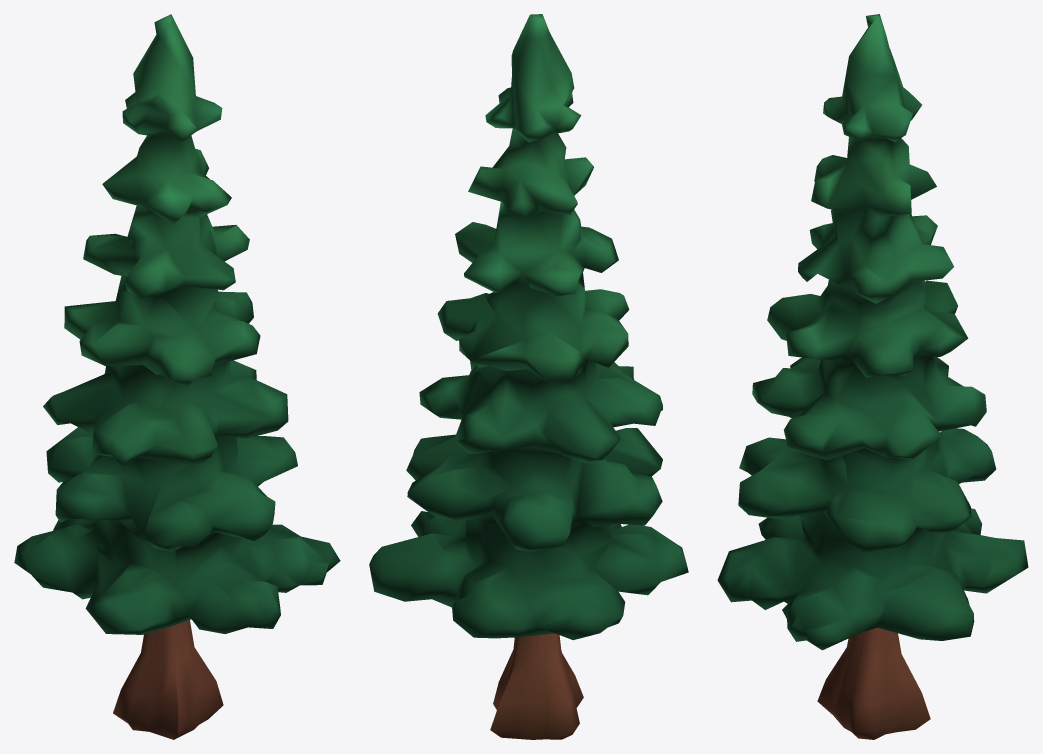
The model's file is tree-cedar.glb.
3 renders of one model, left to right at view 1: azimuth 30°, elevation 25°; view 2: azimuth 150°, elevation 25°; view 3: azimuth 270°, elevation 25°, orthographic.
Parts seen in each view (by area): view 1: Cedar Needles, Cedar Bark; view 2: Cedar Needles, Cedar Bark; view 3: Cedar Needles, Cedar Bark.
Part boxes in pixels (x1,y1,x2,y2): Cedar Needles: [14, 14, 340, 634]; Cedar Bark: [113, 620, 223, 739]; Cedar Needles: [369, 14, 688, 640]; Cedar Bark: [490, 633, 583, 739]; Cedar Needles: [717, 14, 1028, 650]; Cedar Bark: [817, 627, 930, 739].
Bounding box in the file's own units: 4.73 × 12.43 × 4.95.
